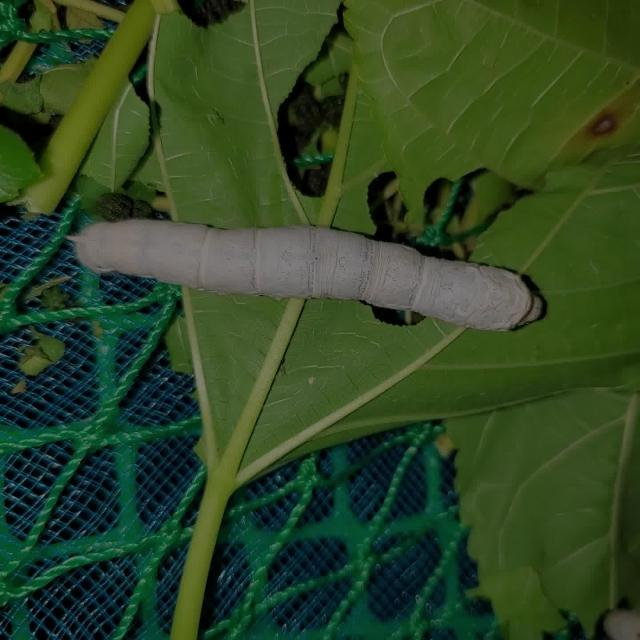Healthy: (59, 181, 570, 366)
